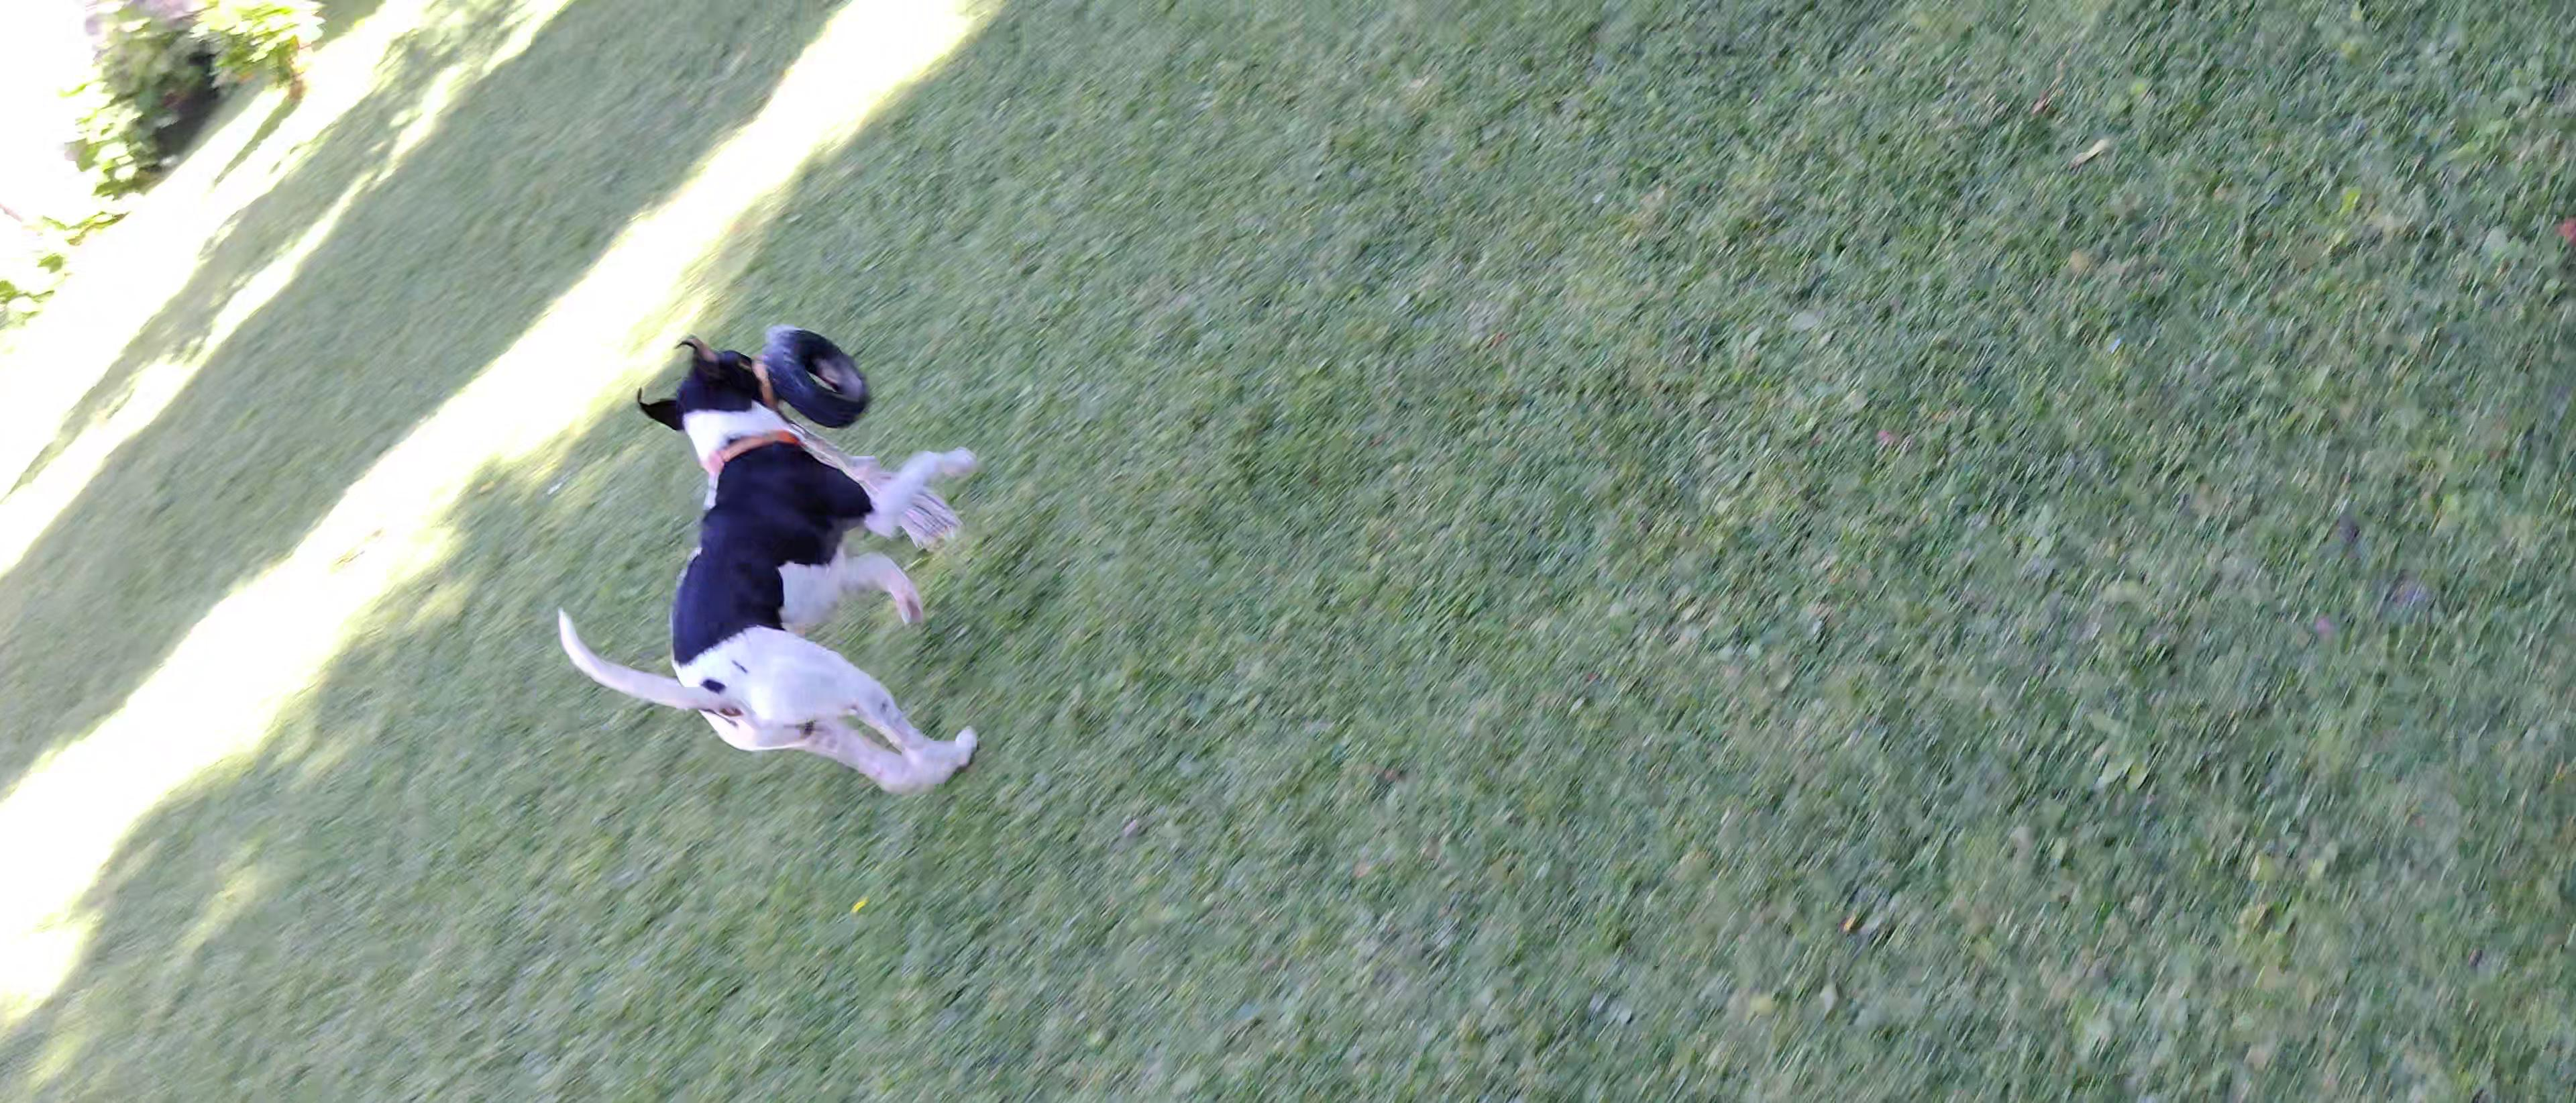Dog: (545, 330, 986, 805)
